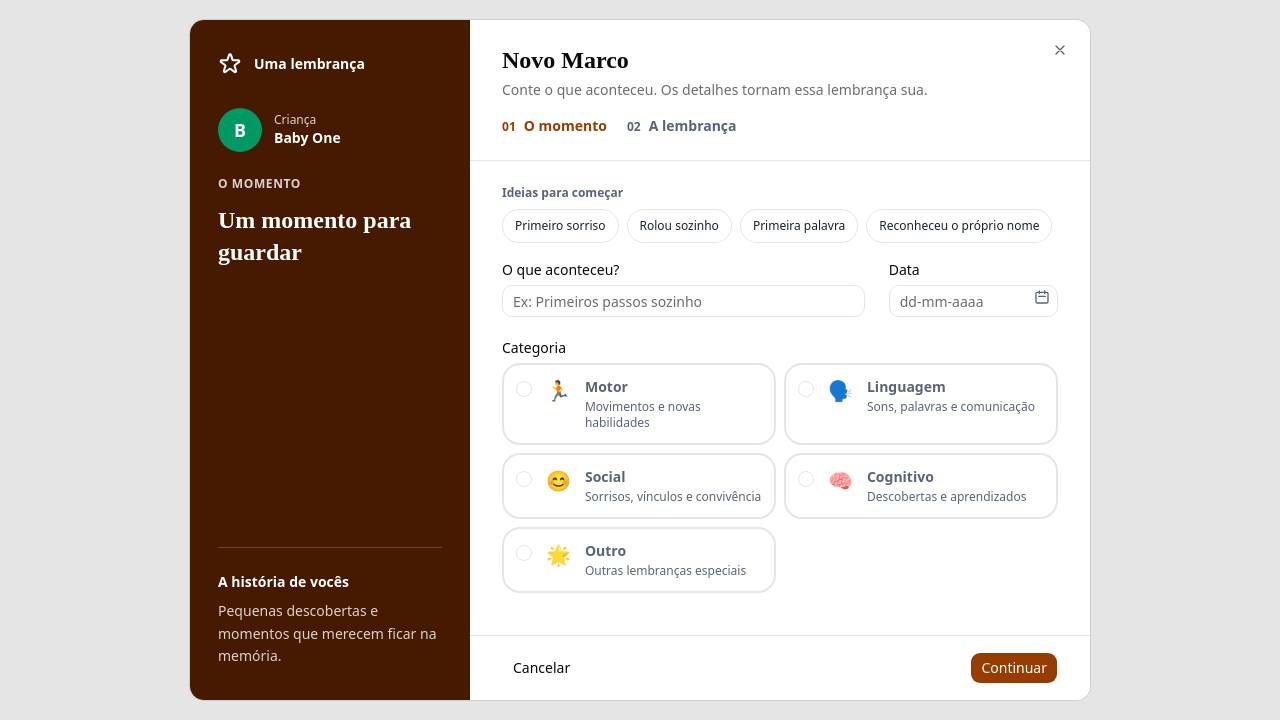
Scenario: AddMilestoneDialog suggestions and photo › asks before a suggestion replaces a title already typed, and keeps it on cancel
In the field labelled "O que aconteceu?": (683, 301) [502, 285, 865, 317], type "Riu do cachorro"
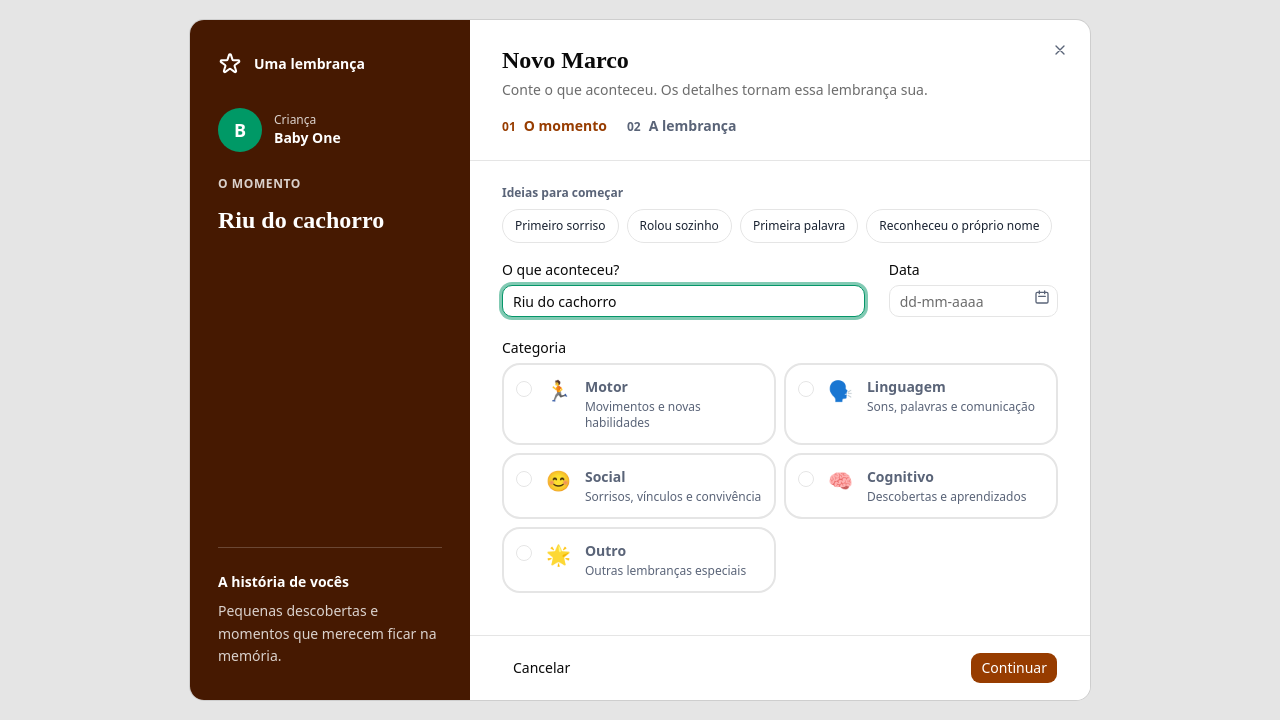
Click the button "Primeiro sorriso": (560, 226) [502, 209, 618, 243]
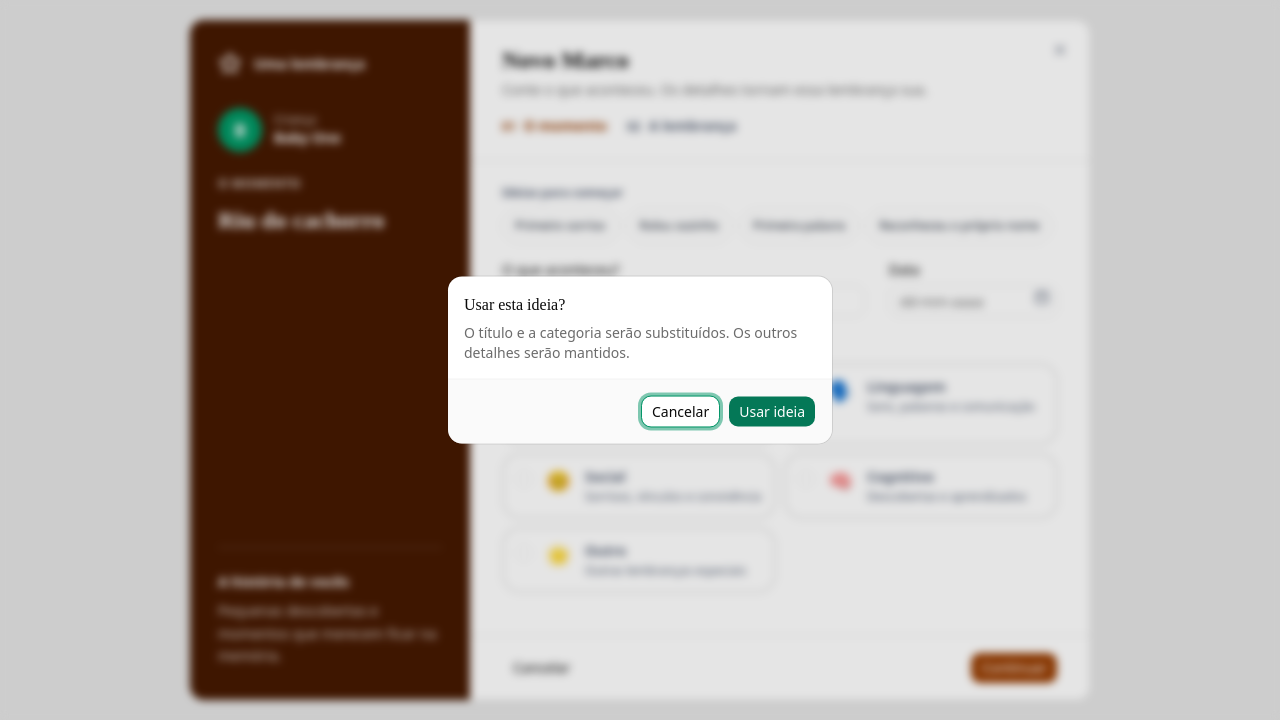
Click the button "Cancelar": (681, 412) [641, 396, 720, 428]
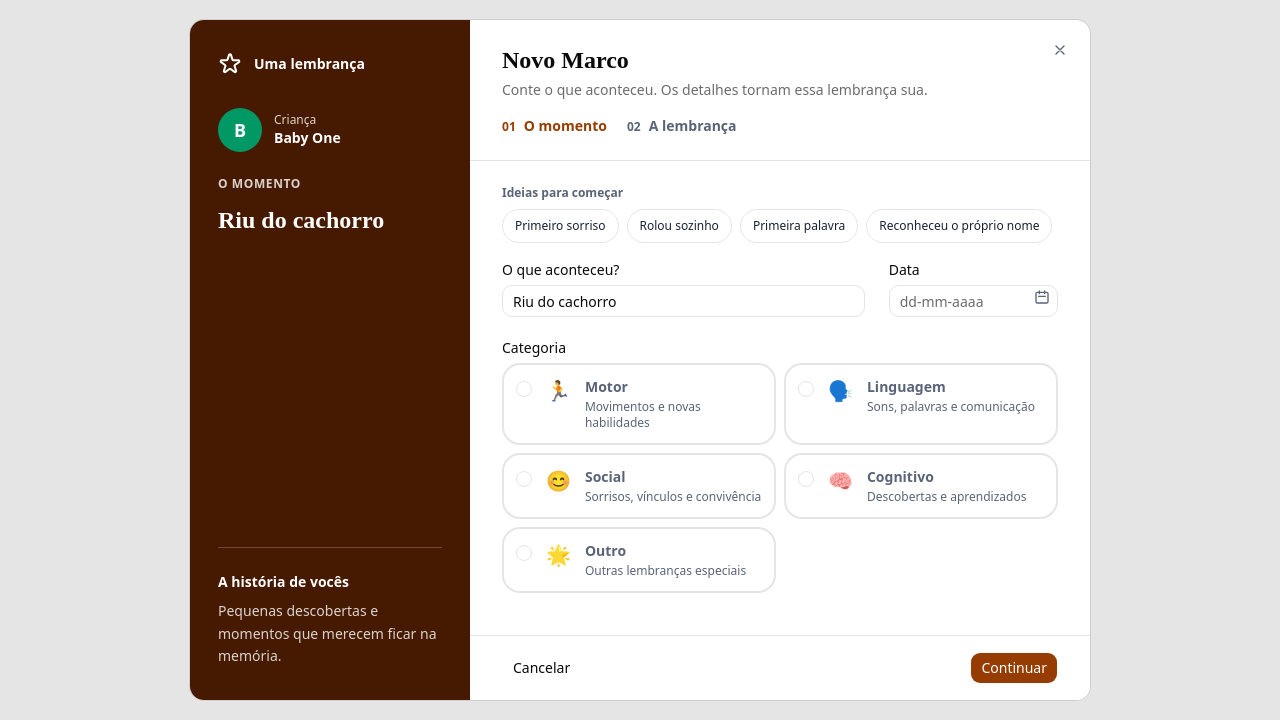
Click the button "Primeiro sorriso": (560, 226) [502, 209, 618, 243]
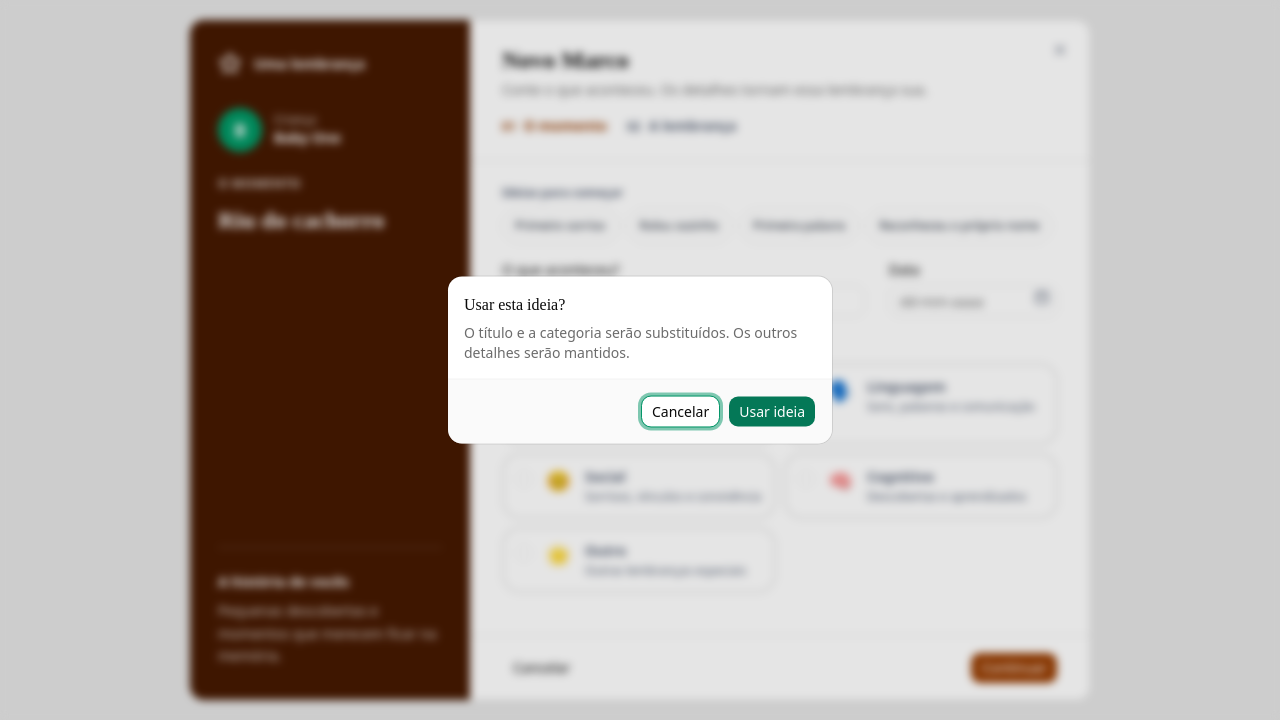
Click the button "Usar ideia": (772, 412) [728, 396, 816, 428]
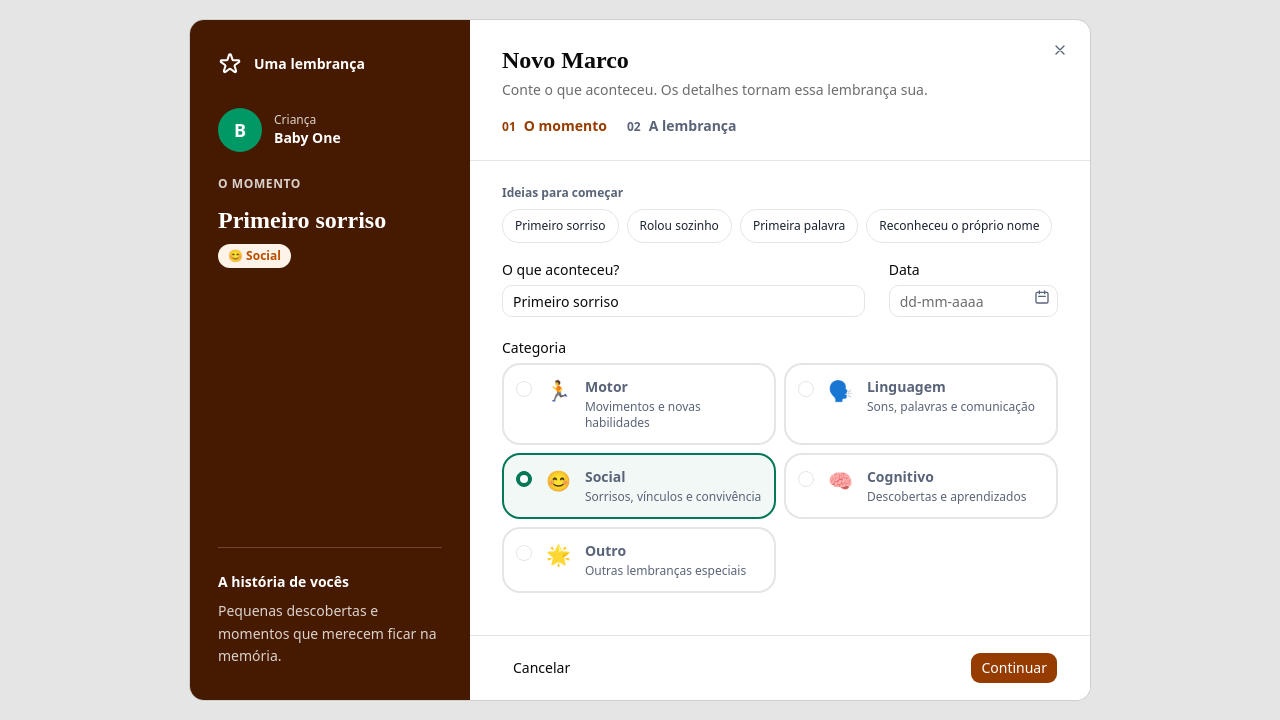
Now the field labelled "O que aconteceu?" holds "Primeiro sorriso", box [502, 285, 865, 317]
